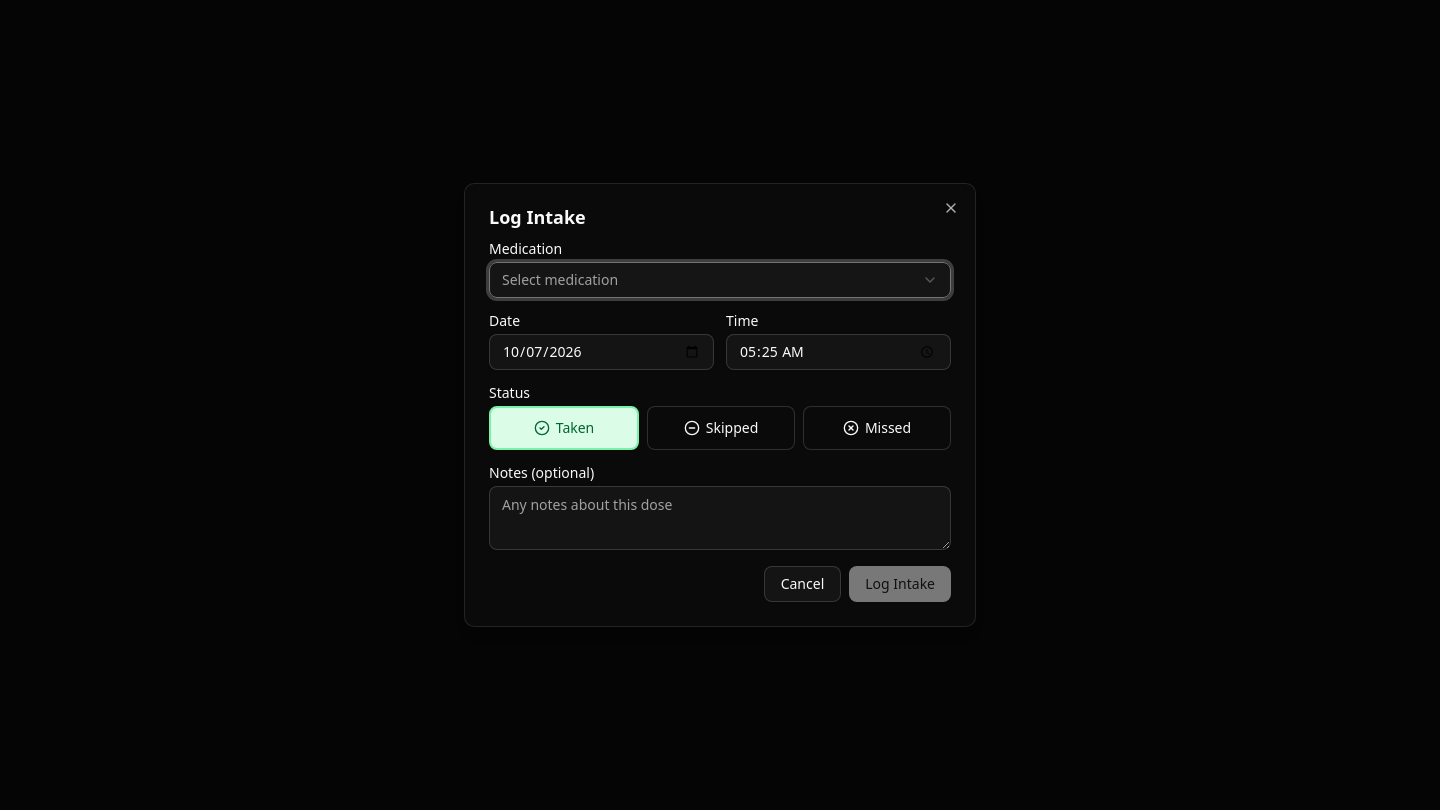
it: LogIntakeDialog › injection site section visible when Injection medication selected
Step 1. Click the dropdown labelled "Select medication" → click(560, 280), box [489, 262, 951, 298]
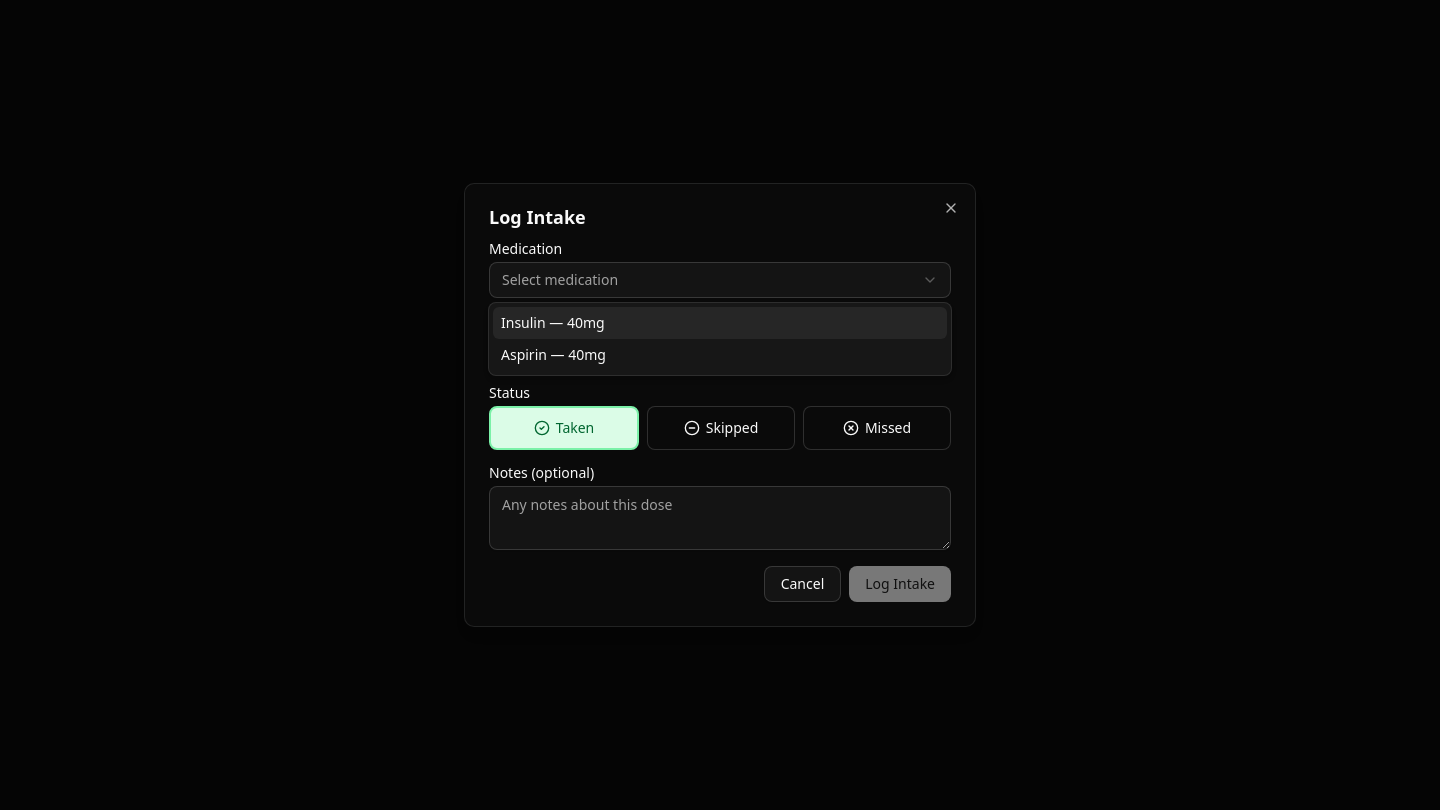
Step 2. Click the option "Insulin — 40mg" → click(523, 322), box [493, 307, 947, 339]
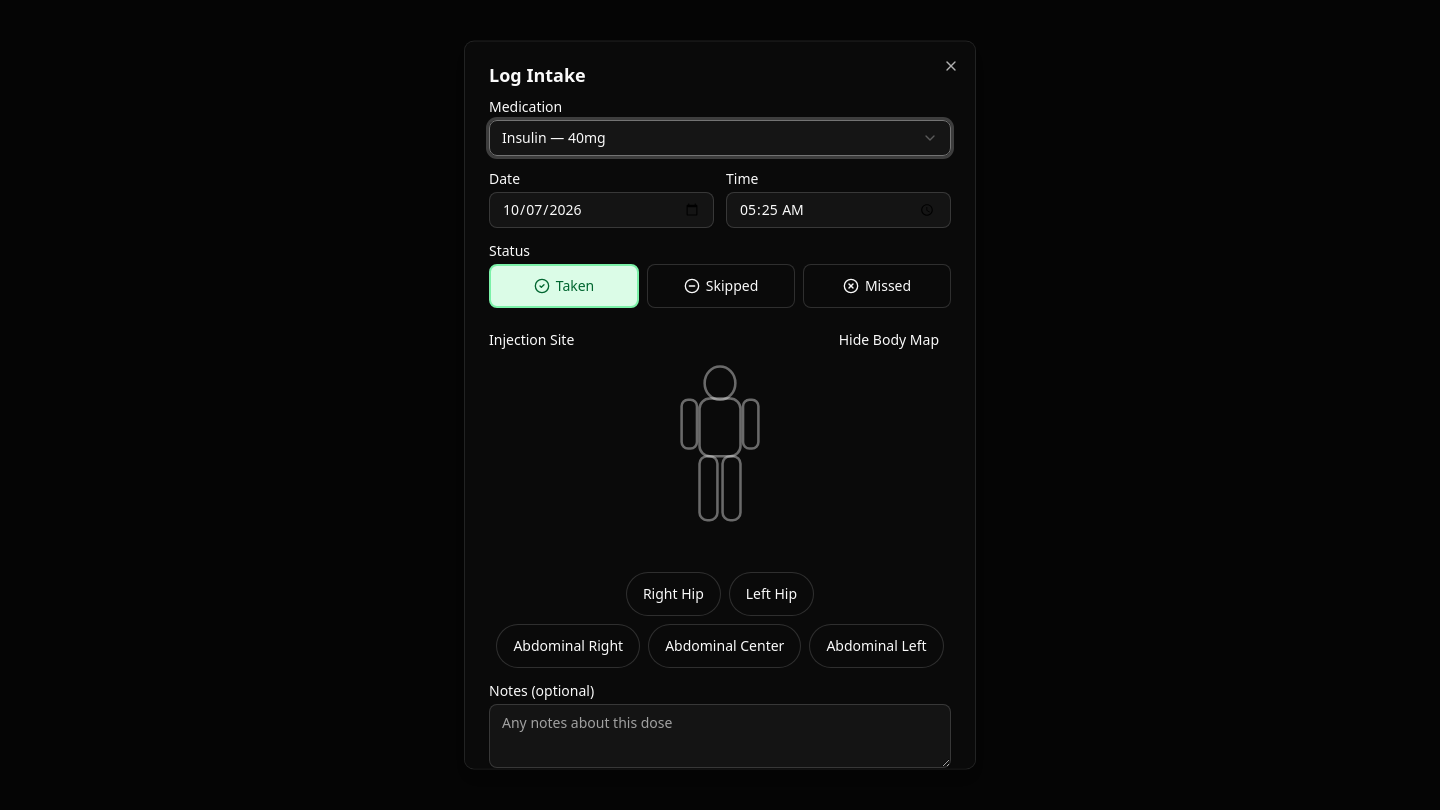
Result: the text "Injection Site" is shown at [489, 332, 574, 346]
